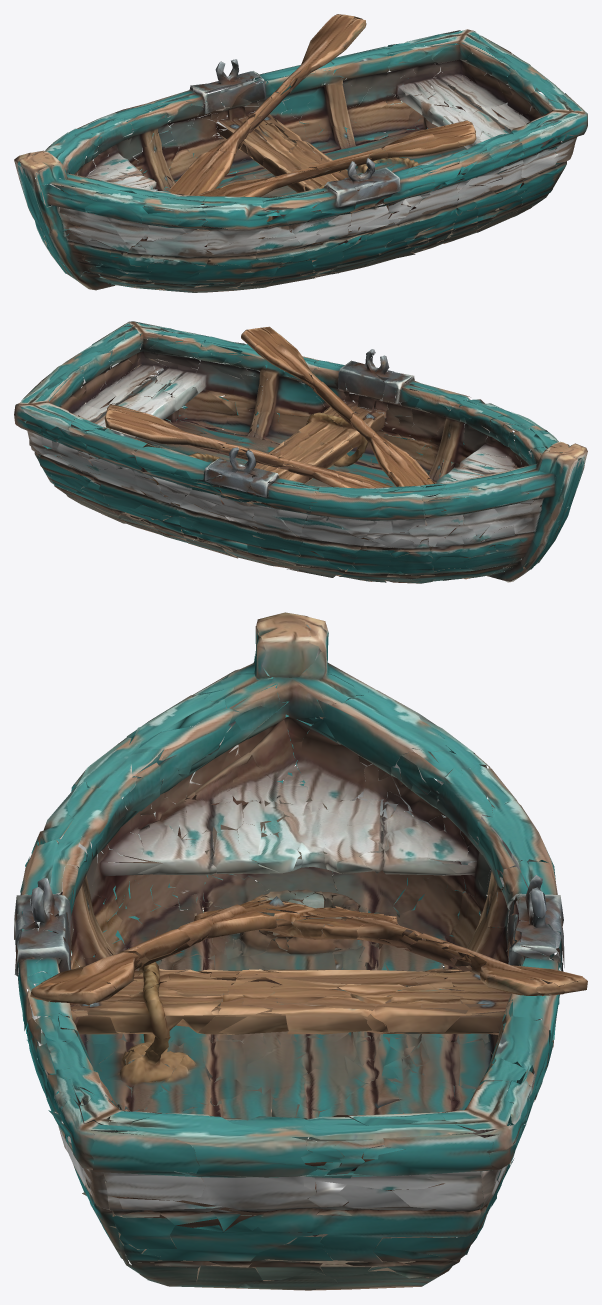
Rendered from M15_Boat.fbx.
3 renders of one model, top to bottom at view 1: azimuth 30°, elevation 25°; view 2: azimuth 150°, elevation 25°; view 3: azimuth 270°, elevation 25°, orthographic. The views are drawn at different scales.
Visible parts, largest first — view 1: M15_Boat.040; view 2: M15_Boat.040; view 3: M15_Boat.040.
Boxes of the visible parts, box(x1,y1,x2,y2) form: M15_Boat.040: box(14, 14, 587, 292); M15_Boat.040: box(14, 321, 587, 583); M15_Boat.040: box(14, 612, 587, 1290).
Size of the model in its own units: 3.86 by 1 by 2.
Materials: 1 (1 with a texture image).
